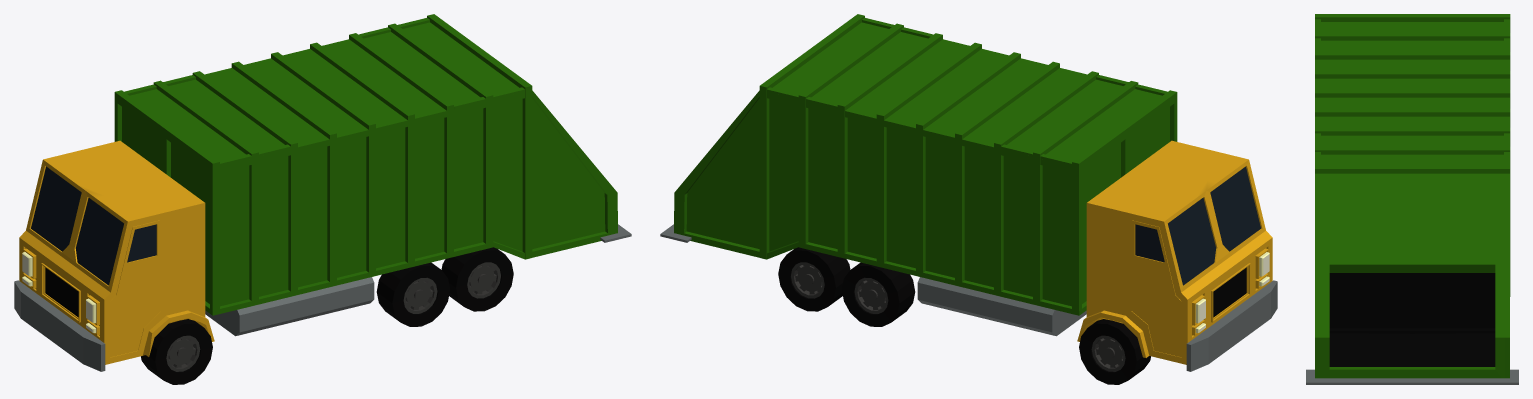
Rendered from Camion Poubelle 1.fbx.
3 renders of one model, left to right at view 1: azimuth 30°, elevation 25°; view 2: azimuth 150°, elevation 25°; view 3: azimuth 270°, elevation 25°, orthographic.
Visible parts, largest first — view 1: Cylinder.002; view 2: Cylinder.002; view 3: Cylinder.002.
Part boxes in pixels (x1,y1,x2,y2): Cylinder.002: [14, 14, 631, 384]; Cylinder.002: [660, 14, 1277, 384]; Cylinder.002: [1306, 14, 1518, 384].
Size of the model in its own units: 343 by 973 by 378.
Materials: 1 (1 with a texture image).
